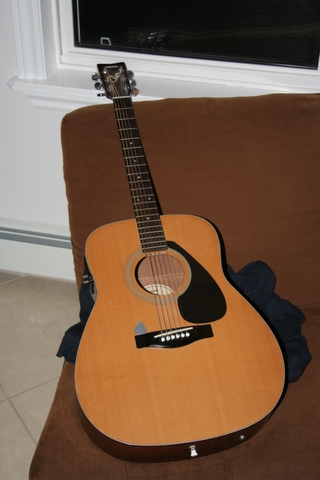guitar: (70, 62, 286, 463)
